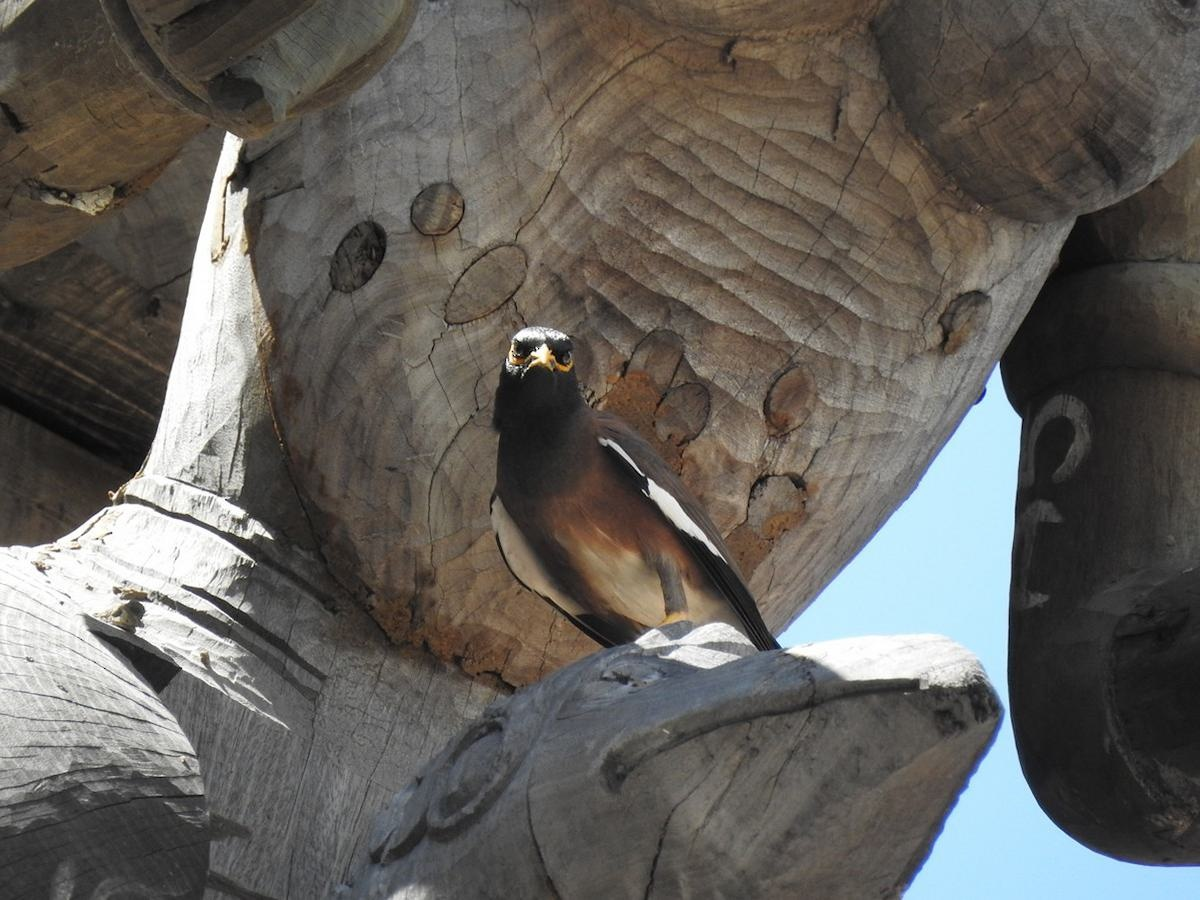myna: (450, 284, 826, 720)
